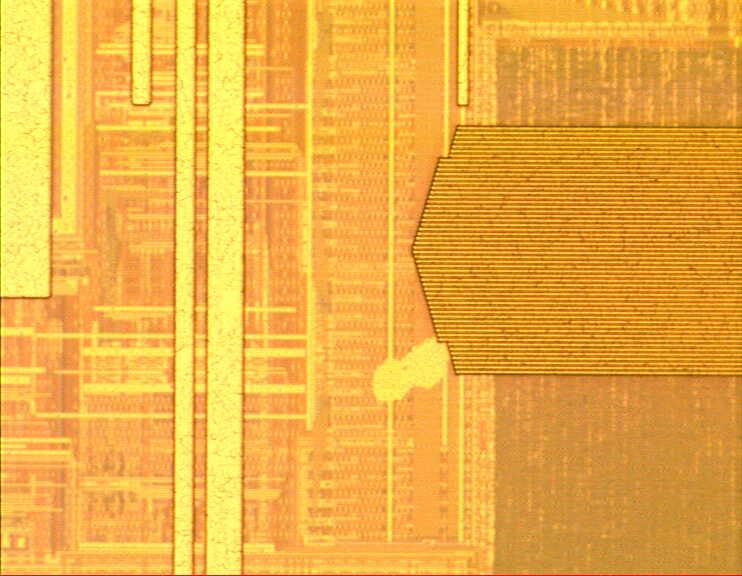BLOCK ETCH: (366, 333, 458, 409)
